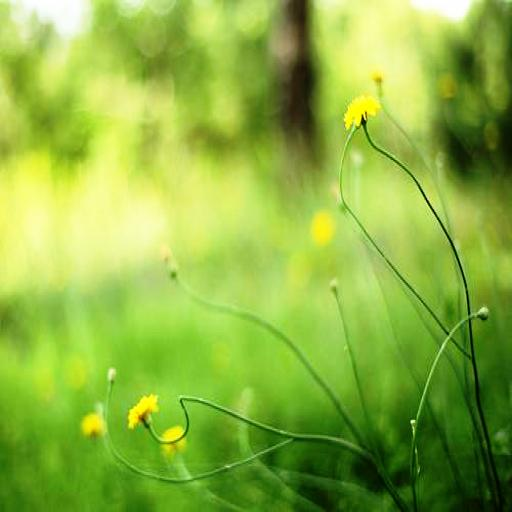dandelion: (127, 392, 156, 429), (343, 94, 377, 124)
